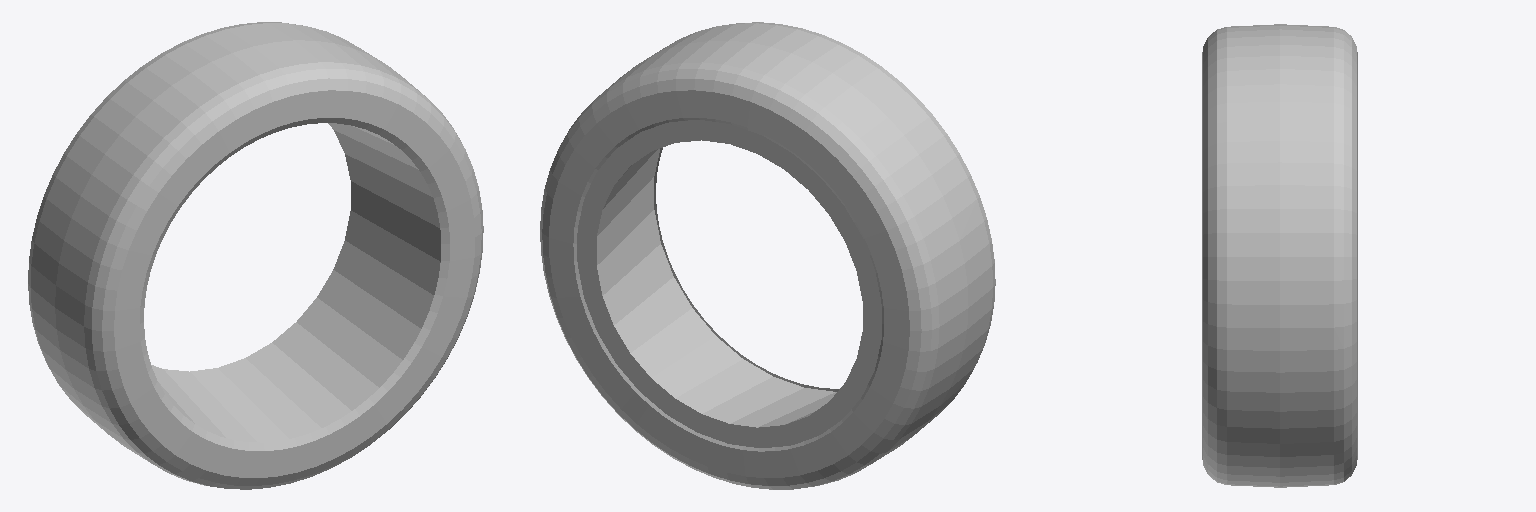
The model's file is STOCK.obj.
3 views of the same model, side by side, from view 1: azimuth 30°, elevation 25°; view 2: azimuth 150°, elevation 25°; view 3: azimuth 270°, elevation 25° (orthographic).
Parts seen in each view (by area): view 1: TIRE_GENERIC_GRIP_LEFT_18_A; view 2: TIRE_GENERIC_GRIP_LEFT_18_A; view 3: TIRE_GENERIC_GRIP_LEFT_18_A.
Boxes of the visible parts, <box> form: TIRE_GENERIC_GRIP_LEFT_18_A: <box>28,22,483,489</box>; TIRE_GENERIC_GRIP_LEFT_18_A: <box>540,22,995,489</box>; TIRE_GENERIC_GRIP_LEFT_18_A: <box>1202,24,1357,487</box>.
Size of the model in its own units: 0.643 by 0.643 by 0.2172.